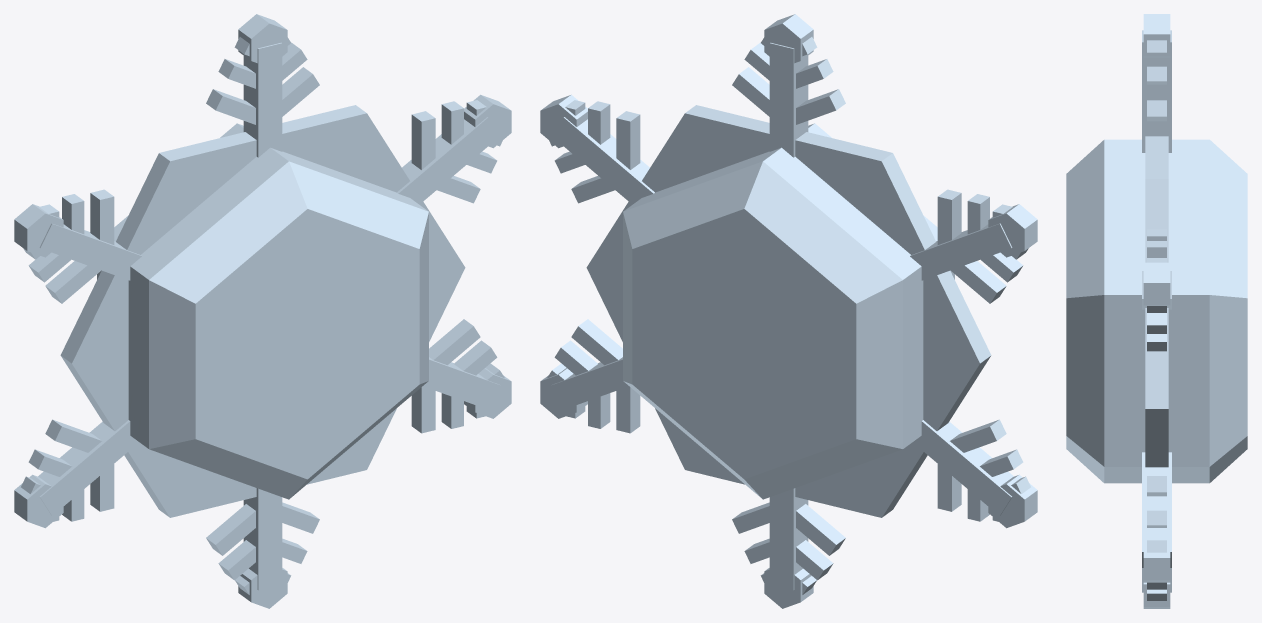
Rendered from snowflake.obj.
The picture shows the model from 3 angles, left to right: view 1: azimuth 30°, elevation 25°; view 2: azimuth 150°, elevation 25°; view 3: azimuth 270°, elevation 25°; orthographic projection.
Visible parts, largest first — view 1: Snowflake; view 2: Snowflake; view 3: Snowflake.
Boxes of the visible parts, x1,y1,x2,y2 form: Snowflake: [14, 14, 511, 608]; Snowflake: [540, 14, 1037, 608]; Snowflake: [1066, 14, 1247, 608].
Size of the model in its own units: 3.45 by 3.98 by 1.1.
